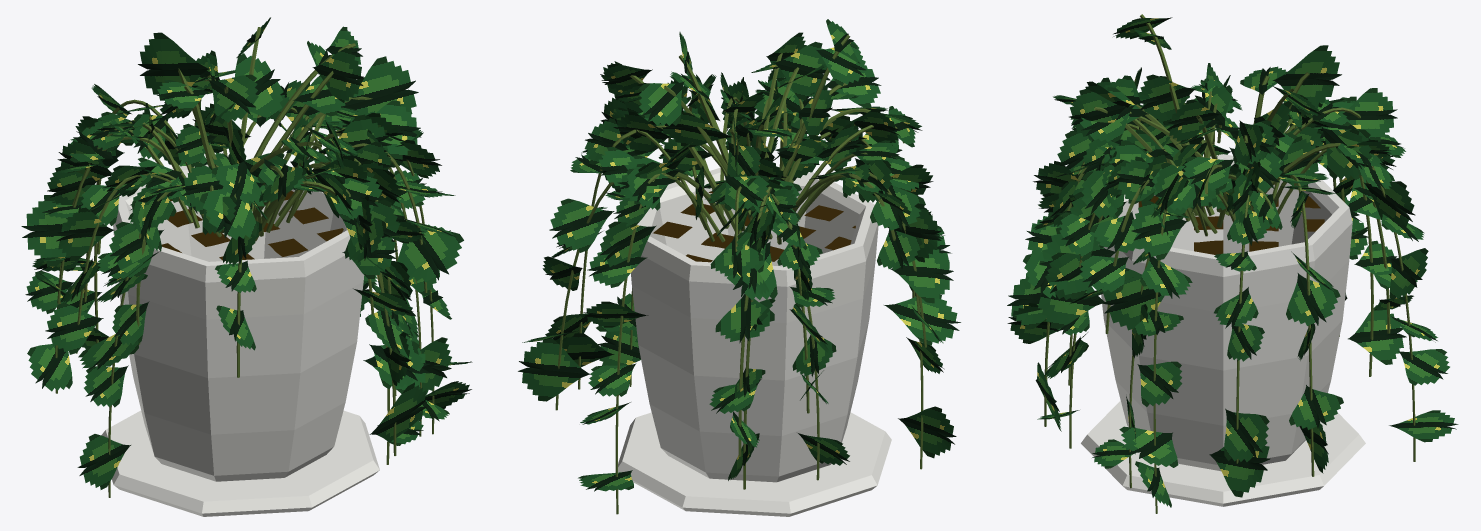
File: pothos.obj
3 renders of one model, left to right at view 1: azimuth 30°, elevation 25°; view 2: azimuth 150°, elevation 25°; view 3: azimuth 270°, elevation 25°, orthographic.
Parts seen in each view (by area): view 1: Pot, Saucer, PothosLeaf_029, PothosLeaf_011, PothosLeaf_068, Soil, PothosLeaf_084, PothosLeaf_162, PothosLeaf_005, PothosLeaf_079, PothosLeaf_077, PothosLeaf_007 (+58 smaller); view 2: Pot, Saucer, PothosLeaf_123, PothosLeaf_119, PothosLeaf_160, Soil, PothosLeaf_078, PothosLeaf_020, PothosLeaf_162, PothosLeaf_008, PothosLeaf_097, PothosLeaf_175 (+56 smaller); view 3: Pot, Saucer, PothosLeaf_011, PothosLeaf_151, PothosLeaf_137, PothosLeaf_166, PothosLeaf_130, PothosLeaf_120, PothosLeaf_044, PothosLeaf_003, PothosLeaf_138, PothosLeaf_170 (+61 smaller).
Part boxes in pixels (<box>): Pot: <box>113,164,364,481</box>; Saucer: <box>101,410,379,516</box>; PothosLeaf_029: <box>343,56,418,115</box>; PothosLeaf_011: <box>138,32,209,100</box>; PothosLeaf_068: <box>397,221,463,282</box>; Soil: <box>161,190,343,260</box>; PothosLeaf_084: <box>21,195,67,266</box>; PothosLeaf_162: <box>77,434,130,489</box>; PothosLeaf_005: <box>209,74,258,124</box>; PothosLeaf_079: <box>45,303,103,354</box>; PothosLeaf_077: <box>56,207,114,260</box>; PothosLeaf_007: <box>235,53,283,119</box>; Pot: <box>631,167,878,482</box>; Saucer: <box>618,412,891,516</box>; PothosLeaf_123: <box>518,338,590,401</box>; PothosLeaf_119: <box>549,198,614,252</box>; PothosLeaf_160: <box>884,294,960,345</box>; Soil: <box>653,191,855,262</box>; PothosLeaf_078: <box>890,249,953,303</box>; PothosLeaf_020: <box>773,41,830,100</box>; PothosLeaf_162: <box>898,406,956,458</box>; PothosLeaf_008: <box>639,81,684,125</box>; PothosLeaf_097: <box>715,294,774,343</box>; PothosLeaf_175: <box>600,221,656,266</box>; Pot: <box>1098,154,1352,471</box>; Saucer: <box>1081,401,1365,506</box>; PothosLeaf_011: <box>1272,45,1341,114</box>; PothosLeaf_151: <box>1101,268,1164,333</box>; PothosLeaf_137: <box>1224,408,1269,461</box>; PothosLeaf_166: <box>1131,200,1187,260</box>; PothosLeaf_130: <box>1348,305,1406,364</box>; PothosLeaf_120: <box>1286,273,1340,325</box>; PothosLeaf_044: <box>1342,88,1397,141</box>; PothosLeaf_003: <box>1136,74,1196,125</box>; PothosLeaf_138: <box>1209,439,1270,497</box>; PothosLeaf_170: <box>1119,426,1178,467</box>.
Size of the model in its own units: 2.77 by 2.77 by 2.82.
